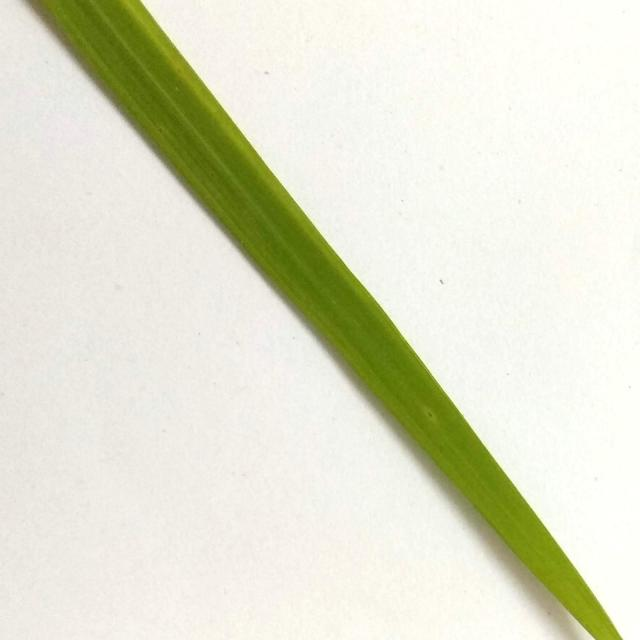healthy: (25, 0, 628, 640)
